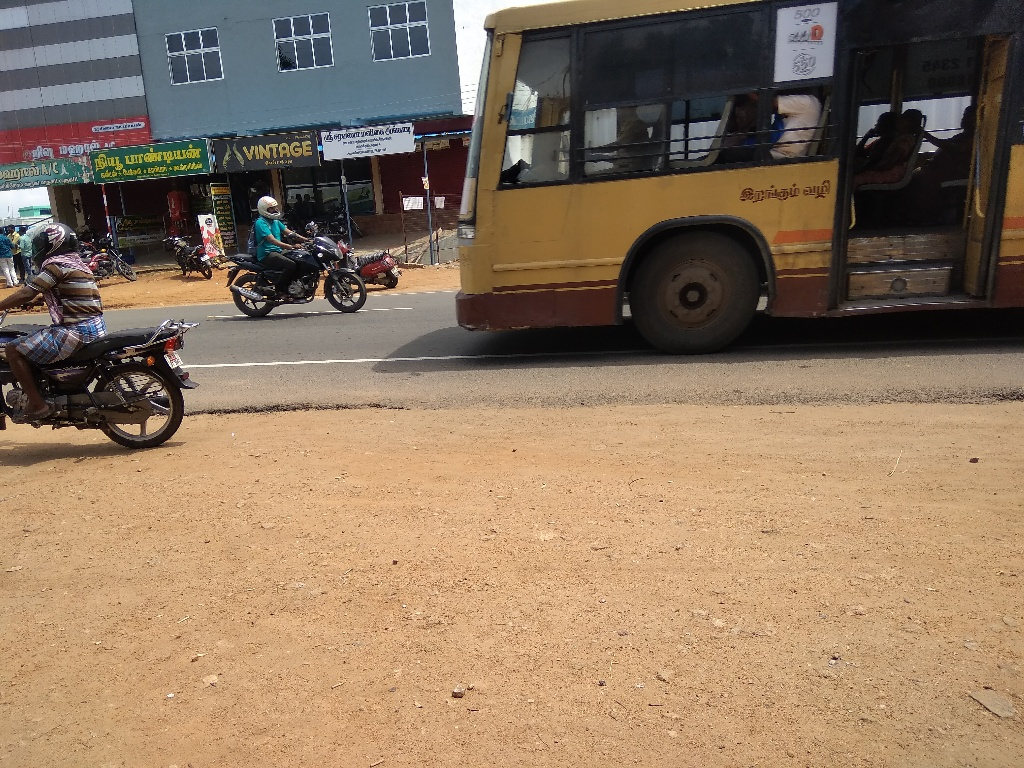biker: (1, 183, 206, 466), (216, 160, 371, 327)
helmet: (13, 206, 93, 281), (251, 187, 287, 228)
